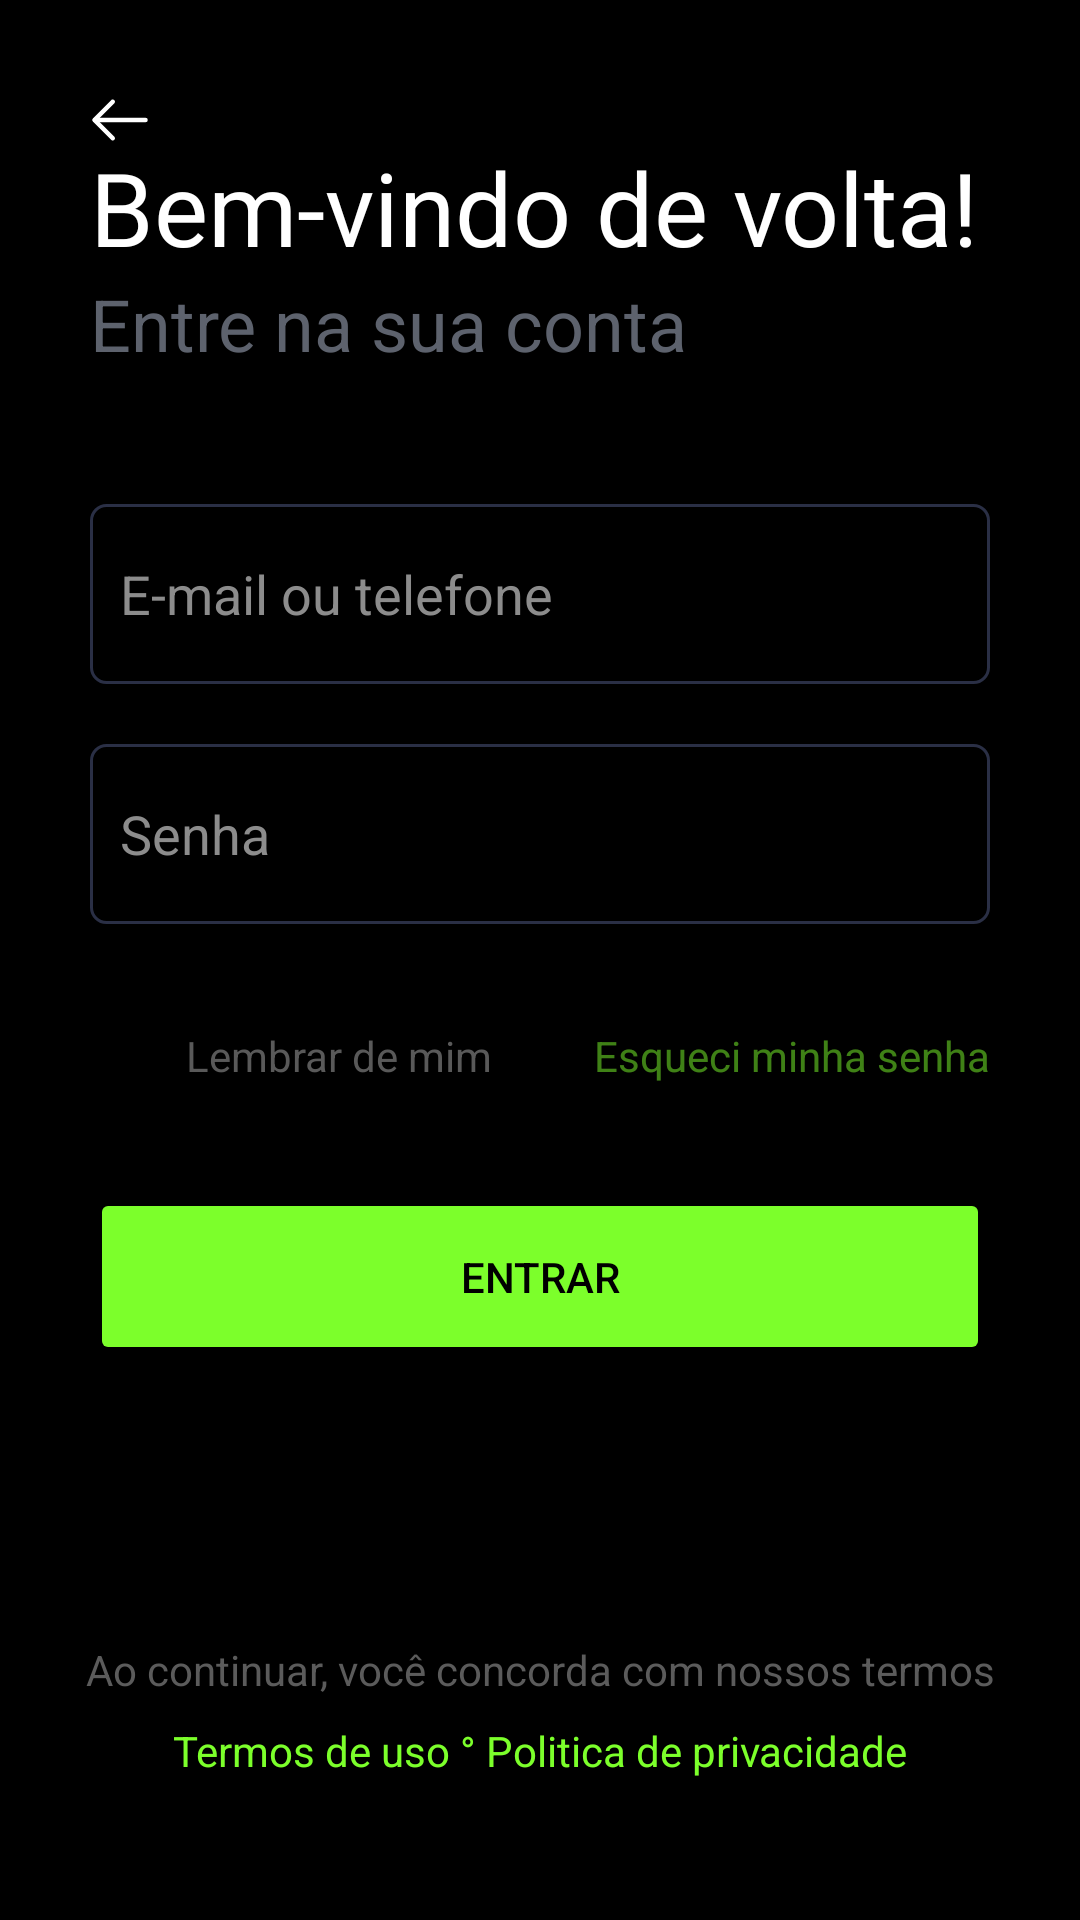

Icon click points for this 1080×1920 phone screenshot, format (x,y):
back: (120,120)
